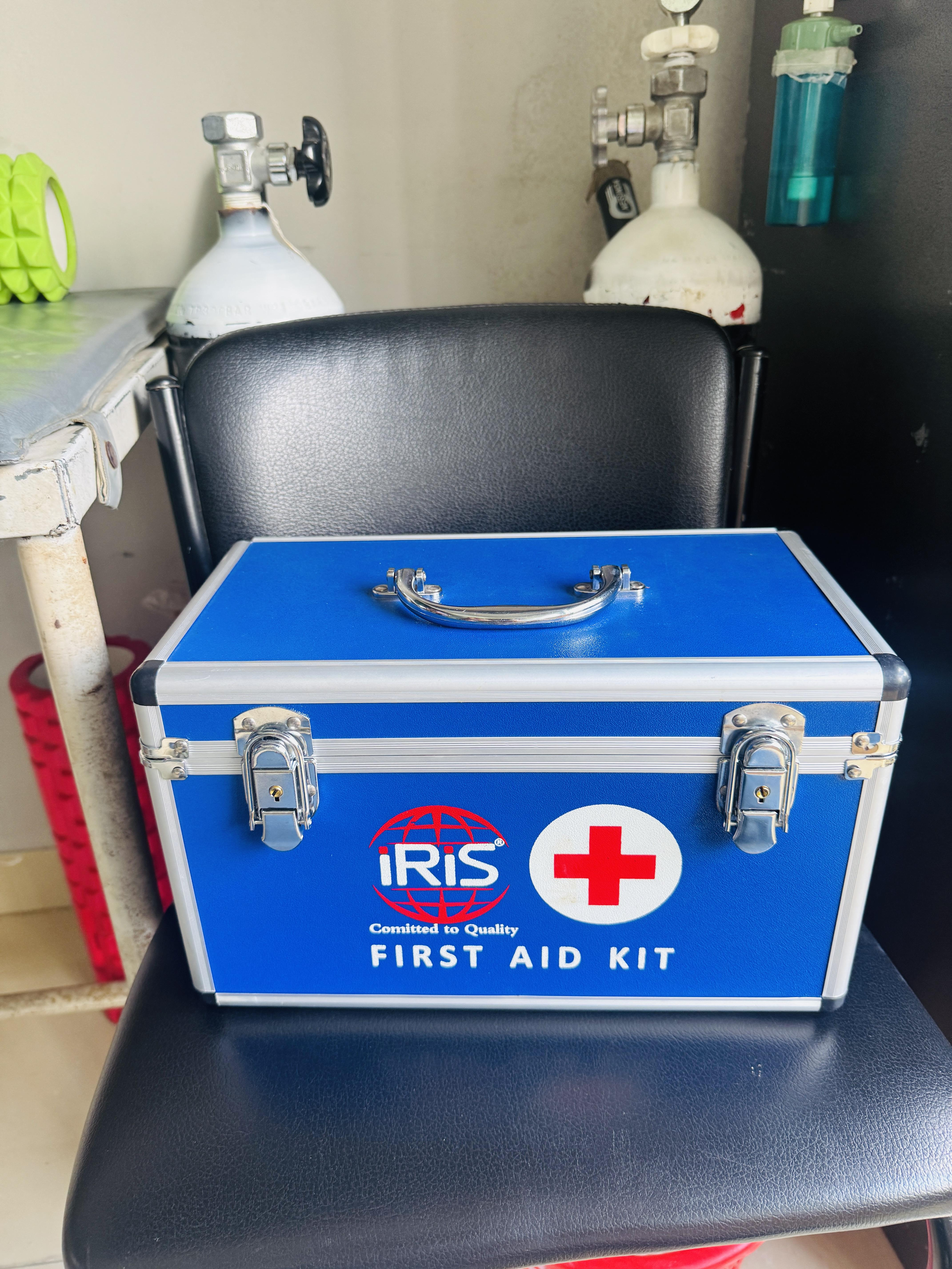FirstAidBox: (118, 520, 929, 1044)
